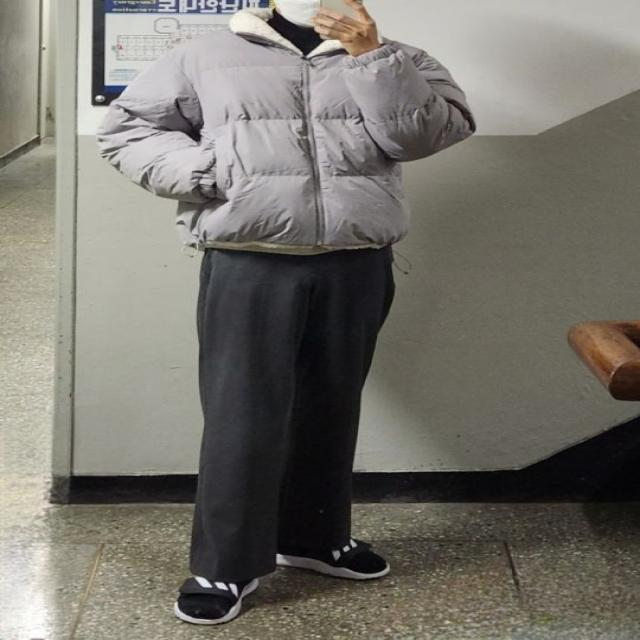denimpants: (196, 250, 398, 585)
padding: (96, 8, 476, 253)
